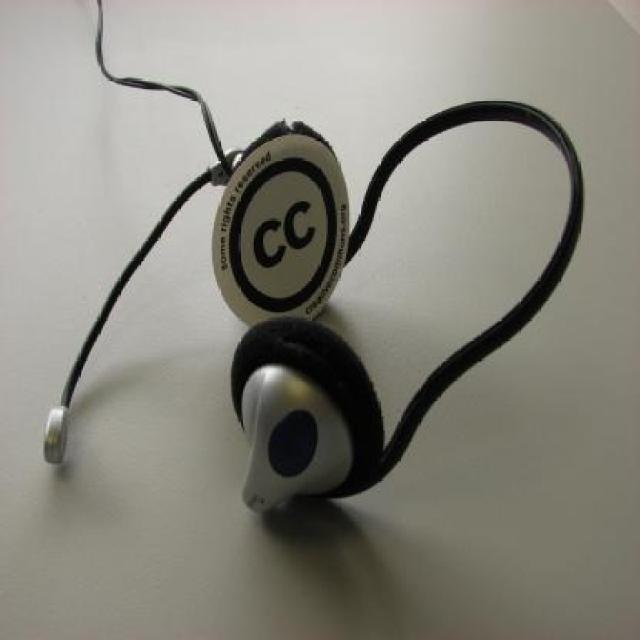earphone: (175, 79, 613, 554)
